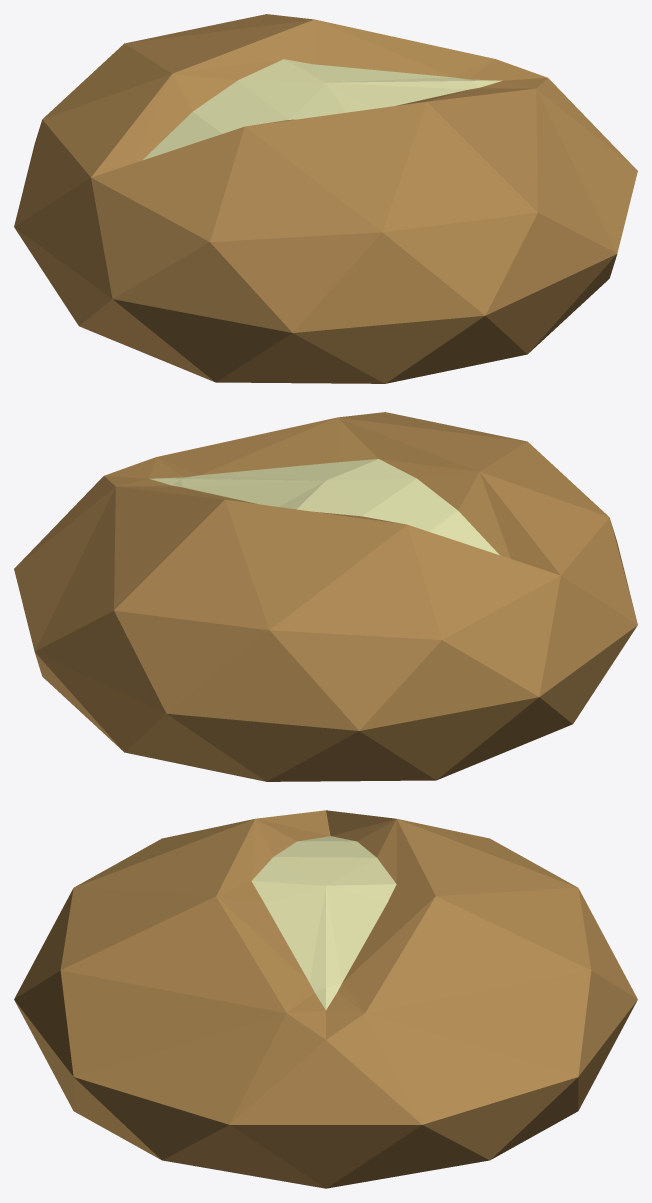
The model's file is BreadRoll.fbx.
3 views of the same model, one above another, from view 1: azimuth 30°, elevation 25°; view 2: azimuth 150°, elevation 25°; view 3: azimuth 270°, elevation 25° (orthographic). The views are drawn at different scales.
Parts seen in each view (by area): view 1: Icosphere, Icosphere.001; view 2: Icosphere, Icosphere.001; view 3: Icosphere, Icosphere.001.
Boxes of the visible parts, x1,y1,x2,y2 form: Icosphere: (14,14,637,383); Icosphere.001: (142,59,502,160); Icosphere: (14,412,637,781); Icosphere.001: (149,459,499,555); Icosphere: (14,810,637,1188); Icosphere.001: (251,836,396,1009).
Bounding box in the file's own units: 64.83 × 25.69 × 68.16.
